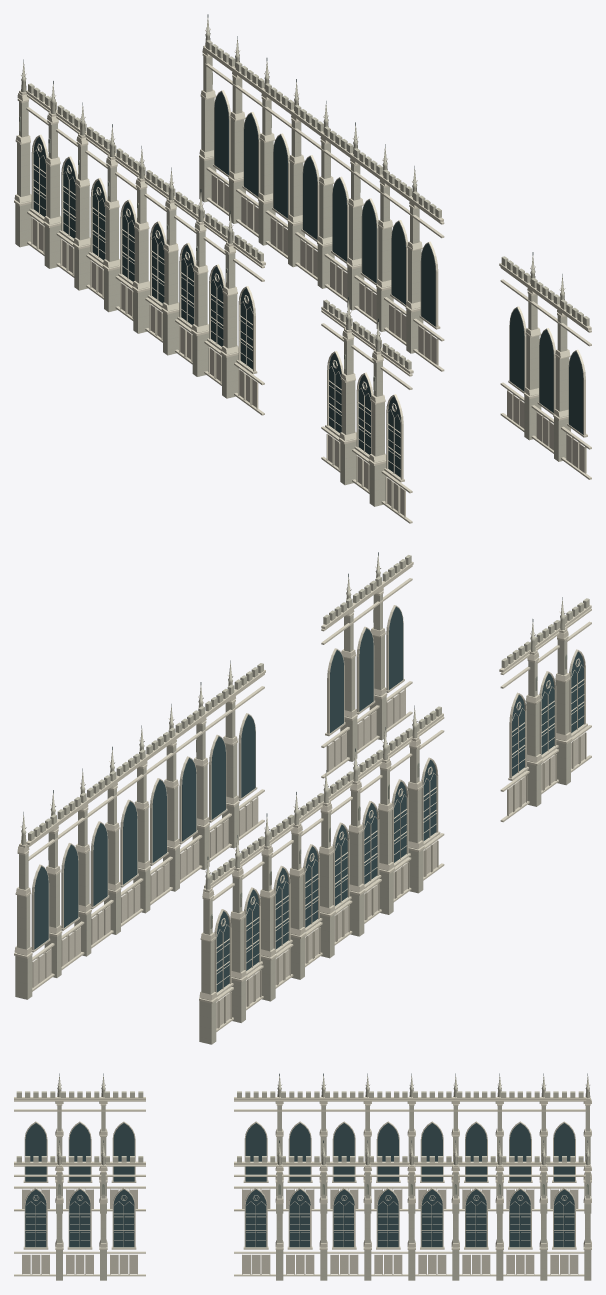
File: KOL_T1_ST_PAULS__03_ModularArchitecture.fbx
3 renders of one model, top to bottom at view 1: azimuth 30°, elevation 25°; view 2: azimuth 150°, elevation 25°; view 3: azimuth 270°, elevation 25°, orthographic. The views are drawn at different scales.
Visible parts, largest first — view 1: KOL_T1_ST_PAULS__03_ModularArchitecture__KOL_T1_B4_Stone_00, KOL_T1_ST_PAULS__03_ModularArchitecture__KOL_T1_B4_Trim_00, KOL_T1_ST_PAULS__03_ModularArchitecture__KOL_T1_B4_Glass_00, KOL_T1_ST_PAULS__03_ModularArchitecture__KOL_T1_B4_Plaster_0, KOL_T1_ST_PAULS__03_ModularArchitecture__KOL_T1_B4_Trim_01; view 2: KOL_T1_ST_PAULS__03_ModularArchitecture__KOL_T1_B4_Stone_00, KOL_T1_ST_PAULS__03_ModularArchitecture__KOL_T1_B4_Trim_00, KOL_T1_ST_PAULS__03_ModularArchitecture__KOL_T1_B4_Glass_00, KOL_T1_ST_PAULS__03_ModularArchitecture__KOL_T1_B4_Plaster_0, KOL_T1_ST_PAULS__03_ModularArchitecture__KOL_T1_B4_Trim_01; view 3: KOL_T1_ST_PAULS__03_ModularArchitecture__KOL_T1_B4_Glass_00, KOL_T1_ST_PAULS__03_ModularArchitecture__KOL_T1_B4_Trim_00, KOL_T1_ST_PAULS__03_ModularArchitecture__KOL_T1_B4_Stone_00, KOL_T1_ST_PAULS__03_ModularArchitecture__KOL_T1_B4_Plaster_0, KOL_T1_ST_PAULS__03_ModularArchitecture__KOL_T1_B4_Trim_01, KOL_T1_ST_PAULS__03_ModularArchitecture__KOL_T1_B4_GothicRec.
Part boxes in pixels (<box>): KOL_T1_ST_PAULS__03_ModularArchitecture__KOL_T1_B4_Stone_00: <box>15,18,589,506</box>; KOL_T1_ST_PAULS__03_ModularArchitecture__KOL_T1_B4_Trim_00: <box>14,47,560,523</box>; KOL_T1_ST_PAULS__03_ModularArchitecture__KOL_T1_B4_Glass_00: <box>33,92,583,477</box>; KOL_T1_ST_PAULS__03_ModularArchitecture__KOL_T1_B4_Plaster_0: <box>32,174,584,515</box>; KOL_T1_ST_PAULS__03_ModularArchitecture__KOL_T1_B4_Trim_01: <box>199,28,591,479</box>; KOL_T1_ST_PAULS__03_ModularArchitecture__KOL_T1_B4_Stone_00: <box>15,555,589,1044</box>; KOL_T1_ST_PAULS__03_ModularArchitecture__KOL_T1_B4_Trim_00: <box>26,583,591,1031</box>; KOL_T1_ST_PAULS__03_ModularArchitecture__KOL_T1_B4_Glass_00: <box>34,606,583,992</box>; KOL_T1_ST_PAULS__03_ModularArchitecture__KOL_T1_B4_Plaster_0: <box>32,689,584,1028</box>; KOL_T1_ST_PAULS__03_ModularArchitecture__KOL_T1_B4_Trim_01: <box>14,561,413,958</box>; KOL_T1_ST_PAULS__03_ModularArchitecture__KOL_T1_B4_Glass_00: <box>25,1123,574,1247</box>; KOL_T1_ST_PAULS__03_ModularArchitecture__KOL_T1_B4_Trim_00: <box>14,1084,591,1276</box>; KOL_T1_ST_PAULS__03_ModularArchitecture__KOL_T1_B4_Stone_00: <box>16,1076,591,1280</box>; KOL_T1_ST_PAULS__03_ModularArchitecture__KOL_T1_B4_Plaster_0: <box>22,1189,577,1273</box>; KOL_T1_ST_PAULS__03_ModularArchitecture__KOL_T1_B4_Trim_01: <box>14,1151,591,1276</box>; KOL_T1_ST_PAULS__03_ModularArchitecture__KOL_T1_B4_GothicRec: <box>58,1184,588,1194</box>.
Bounding box in the file's own units: 58.1 × 51.8 × 197.
Materials: 6 (2 with a texture image).
